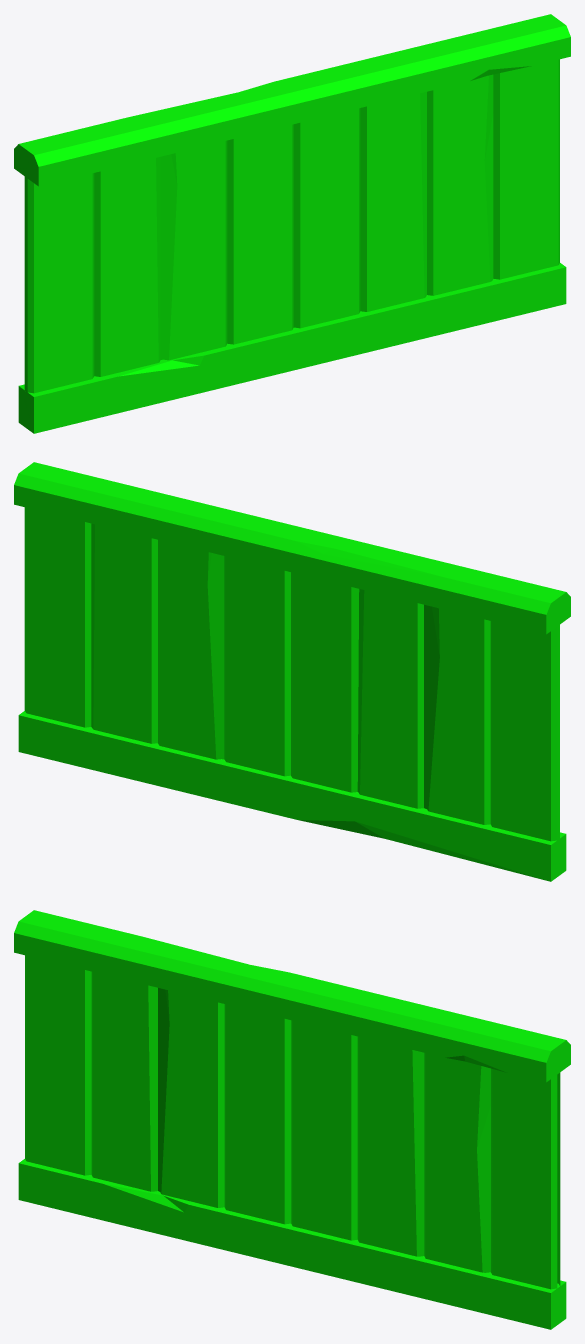
File: SM_Railing_Wood_A_2m.fbx
3 renders of one model, top to bottom at view 1: azimuth 30°, elevation 25°; view 2: azimuth 150°, elevation 25°; view 3: azimuth 330°, elevation 25°, orthographic.
Visible parts, largest first — view 1: railing-wood-a-2m; view 2: railing-wood-a-2m; view 3: railing-wood-a-2m.
Boxes of the visible parts, x1,y1,x2,y2 form: railing-wood-a-2m: (14, 14, 570, 433); railing-wood-a-2m: (14, 462, 570, 881); railing-wood-a-2m: (14, 910, 570, 1329).
Size of the model in its own units: 2 by 1 by 0.16.
